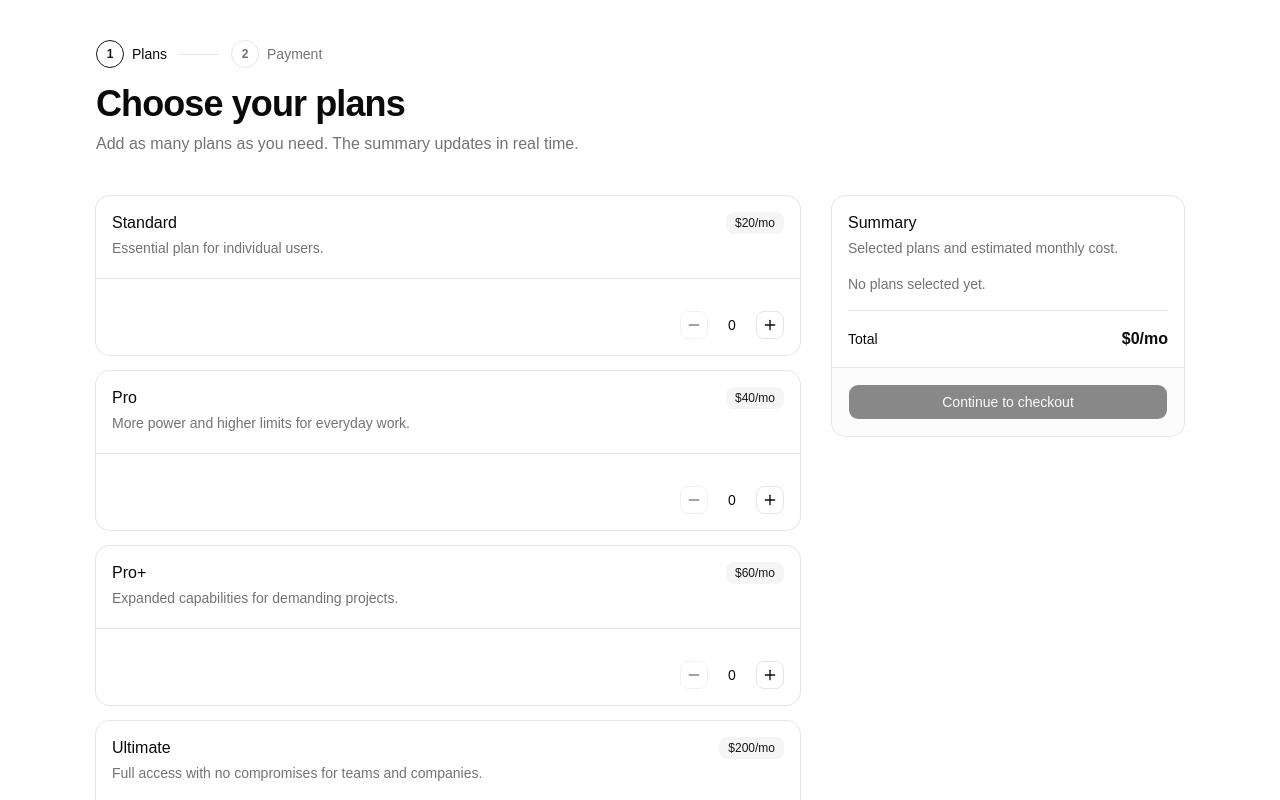
Test: ProductsPage › decrements product quantity from the products page
The image size is (1280, 800).
Expected: the text "Pro" is shown, [112,389,137,406]
Click the button named "Increase Pro quantity" at (770, 500), box [756,486,784,514]
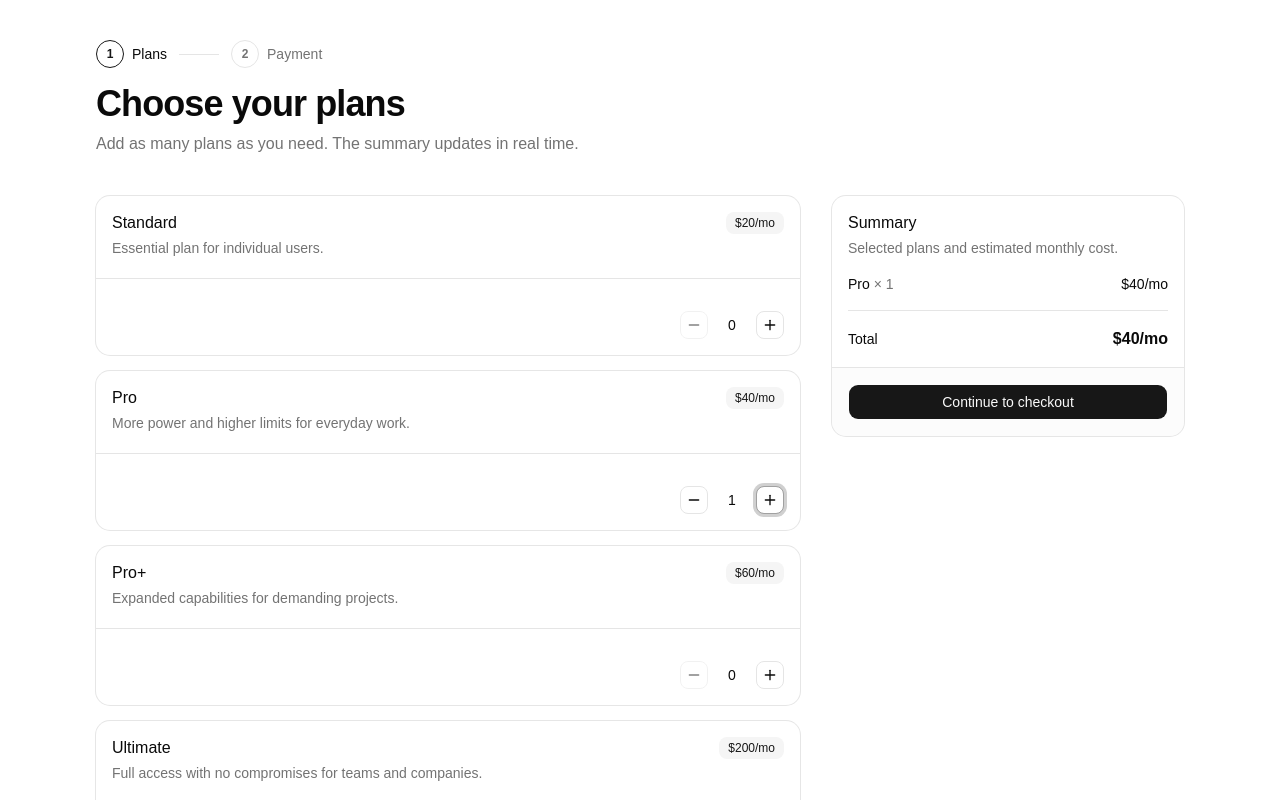
Click the button named "Decrease Pro quantity" at (694, 500), box [680,486,708,514]
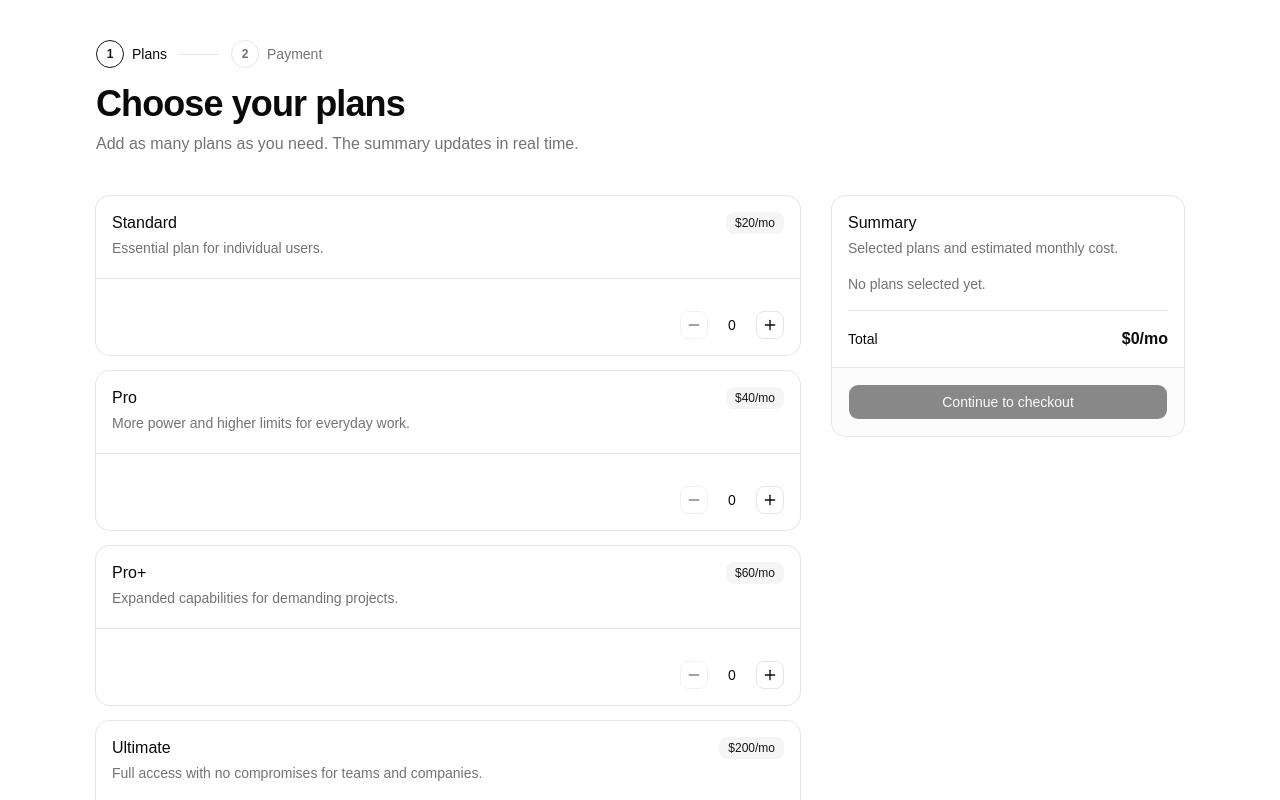
Expected: the text "× 1" is gone
